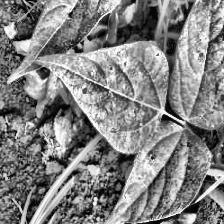ALS: (41, 37, 163, 152), (102, 130, 212, 224), (10, 0, 124, 80), (169, 0, 224, 119)
